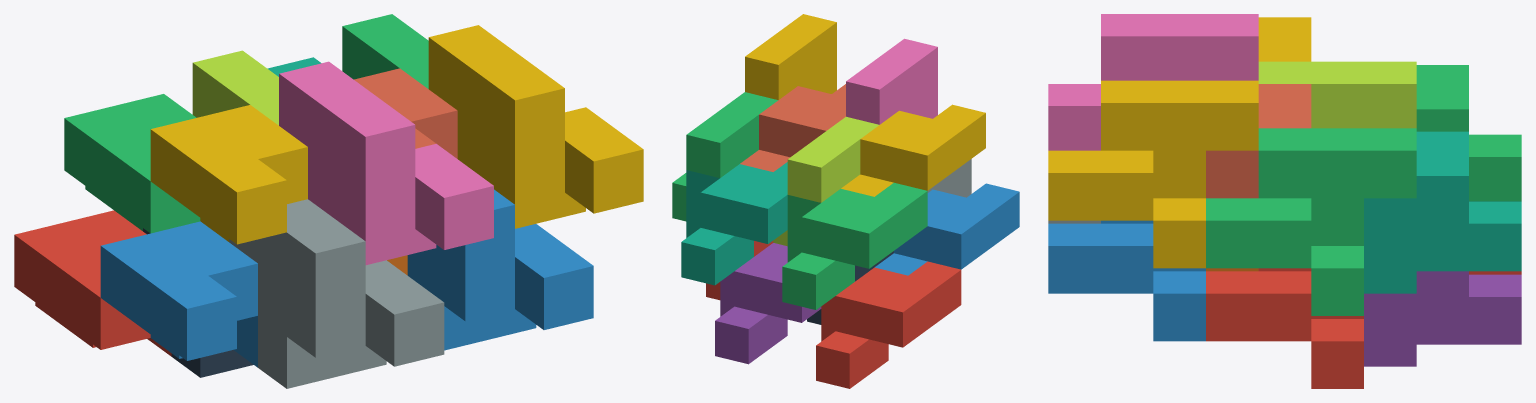
File: tiling.obj
3 views of the same model, side by side, from view 1: azimuth 30°, elevation 25°; view 2: azimuth 150°, elevation 25°; view 3: azimuth 270°, elevation 25° (orthographic). The views are drawn at different scales.
Parts seen in each view (by area): view 1: copy_2_domain_4, copy_2_domain_8, copy_2_domain_2, copy_1_domain_2, copy_2_domain_6, copy_1_domain_4, copy_1_domain_1, copy_1_domain_3, copy_2_domain_3, copy_2_domain_7, copy_1_domain_8, copy_2_domain_1; view 2: copy_1_domain_3, copy_1_domain_1, copy_1_domain_7, copy_1_domain_4, copy_1_domain_2, copy_1_domain_5, copy_2_domain_8, copy_2_domain_4, copy_2_domain_7, copy_1_domain_8, copy_2_domain_3, copy_2_domain_2 (+2 smaller); view 3: copy_2_domain_7, copy_2_domain_8, copy_1_domain_7, copy_2_domain_4, copy_2_domain_6, copy_1_domain_5, copy_2_domain_5, copy_2_domain_3, copy_1_domain_3, copy_1_domain_8, copy_1_domain_4.
Boxes of the visible parts, x1,y1,x2,y2 form: copy_2_domain_4: (279,61,493,265); copy_2_domain_8: (428,25,643,228); copy_2_domain_2: (229,199,444,388); copy_1_domain_2: (100,221,257,367); copy_2_domain_6: (407,189,593,350); copy_1_domain_4: (150,105,307,244); copy_1_domain_1: (14,210,171,356); copy_1_domain_3: (64,94,200,233); copy_2_domain_3: (192,50,278,125); copy_2_domain_7: (342,14,428,88); copy_1_domain_8: (354,68,457,158); copy_2_domain_1: (143,228,253,377); copy_1_domain_3: (782,182,927,309); copy_1_domain_1: (816,261,961,388); copy_1_domain_7: (681,162,787,285); copy_1_domain_4: (841,104,985,196); copy_1_domain_2: (875,183,1019,275); copy_1_domain_5: (715,243,821,364); copy_2_domain_8: (745,14,836,99); copy_2_domain_4: (846,38,937,124); copy_2_domain_7: (672,92,778,221); copy_1_domain_8: (740,84,845,171); copy_2_domain_3: (773,116,878,246); copy_2_domain_2: (927,159,971,197); copy_2_domain_7: (1206,128,1416,315); copy_2_domain_8: (1048,80,1258,268); copy_1_domain_7: (1364,131,1521,293); copy_2_domain_4: (1048,14,1258,150); copy_2_domain_6: (1048,220,1205,341); copy_1_domain_5: (1364,271,1521,366); copy_2_domain_5: (1206,268,1363,388); copy_2_domain_3: (1258,61,1416,128); copy_1_domain_3: (1416,65,1521,201); copy_1_domain_8: (1206,84,1311,198); copy_1_domain_4: (1258,17,1311,61).
Bounding box in the file's own units: 8 × 6 × 9.
